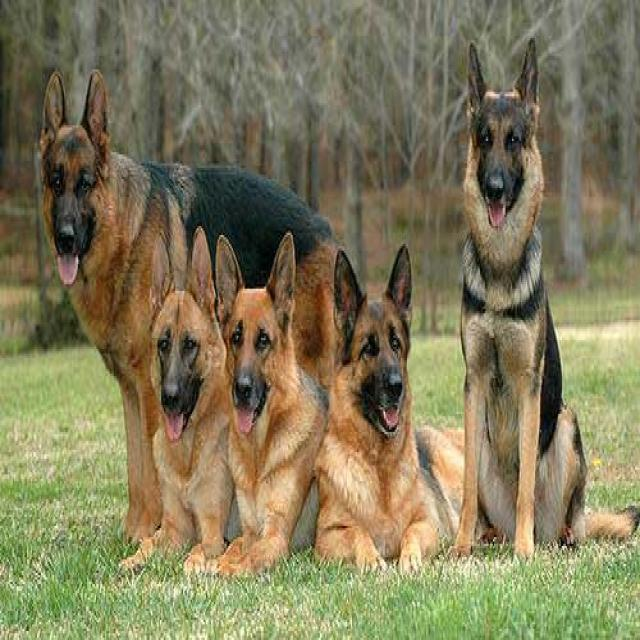GERMAN_SHEPHERD: (33, 72, 358, 576), (454, 35, 637, 562), (316, 233, 507, 577), (210, 217, 340, 583), (124, 214, 234, 587)
